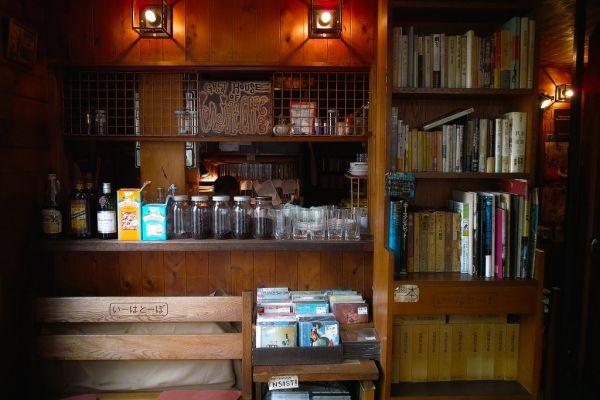hendricks: (96, 184, 117, 240)
unknown_bottle: (42, 174, 64, 239), (250, 194, 274, 242), (70, 181, 88, 239), (232, 196, 253, 241), (190, 196, 210, 240), (210, 196, 230, 239), (84, 175, 97, 239), (170, 194, 188, 240)
